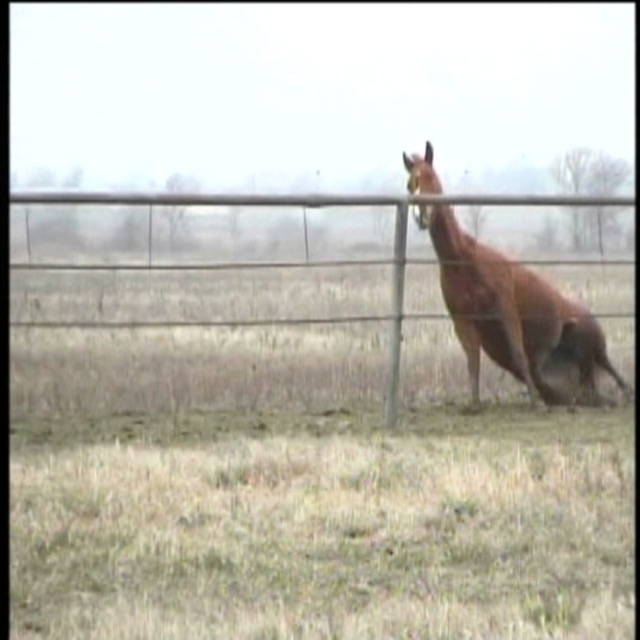Horse: (404, 141, 638, 417)
